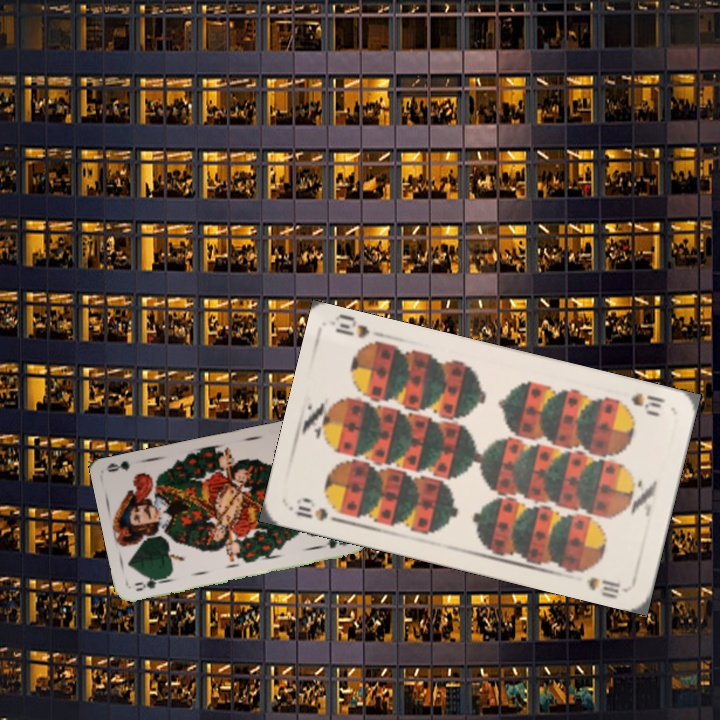GO: (131, 574, 169, 594)
S10: (612, 388, 668, 419), (292, 494, 331, 524)
